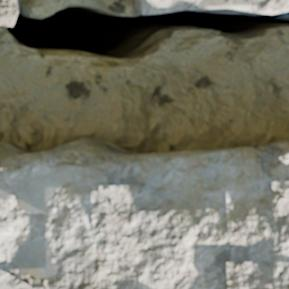brick: (0, 138, 288, 288), (133, 0, 288, 13), (0, 0, 19, 25)
crack: (0, 0, 288, 63)
